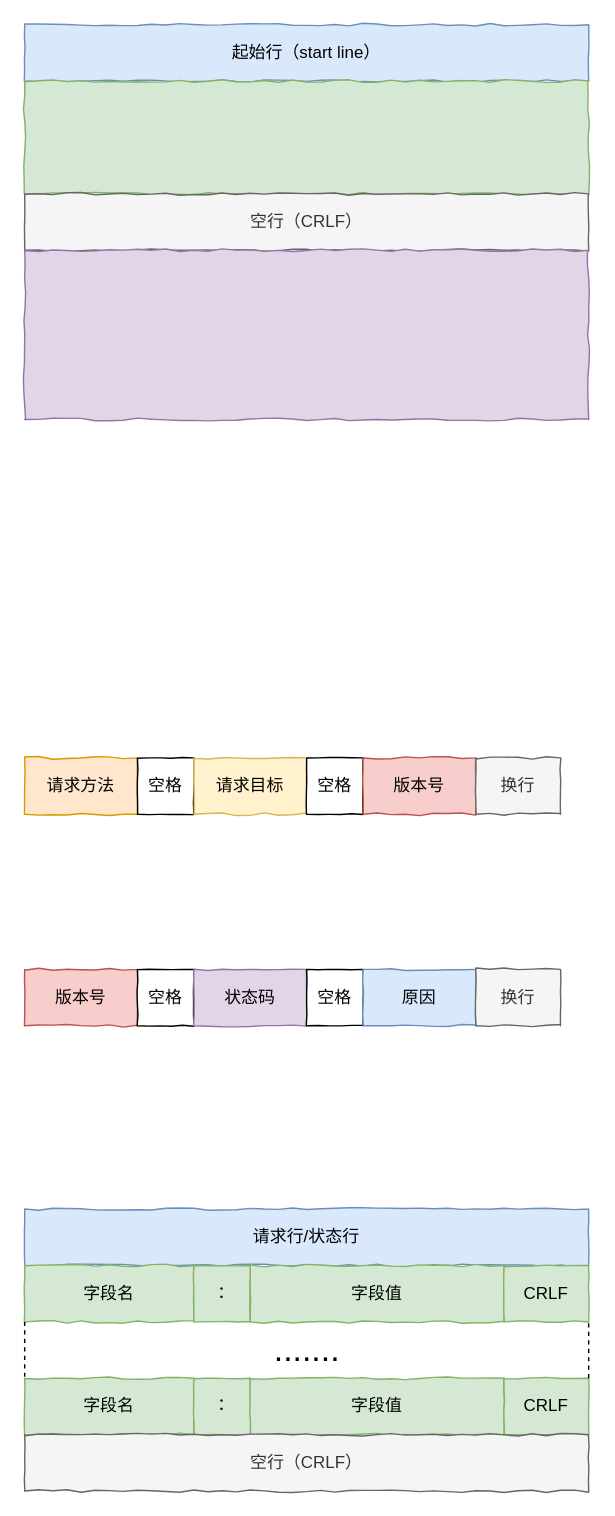
This 615x1516 diagram has some shape labels left out. The centre of each missing label's shape, as x and y in pixels:
"头部（header）" goes at (306,137).
"正文（entity/body）" goes at (306,334).
